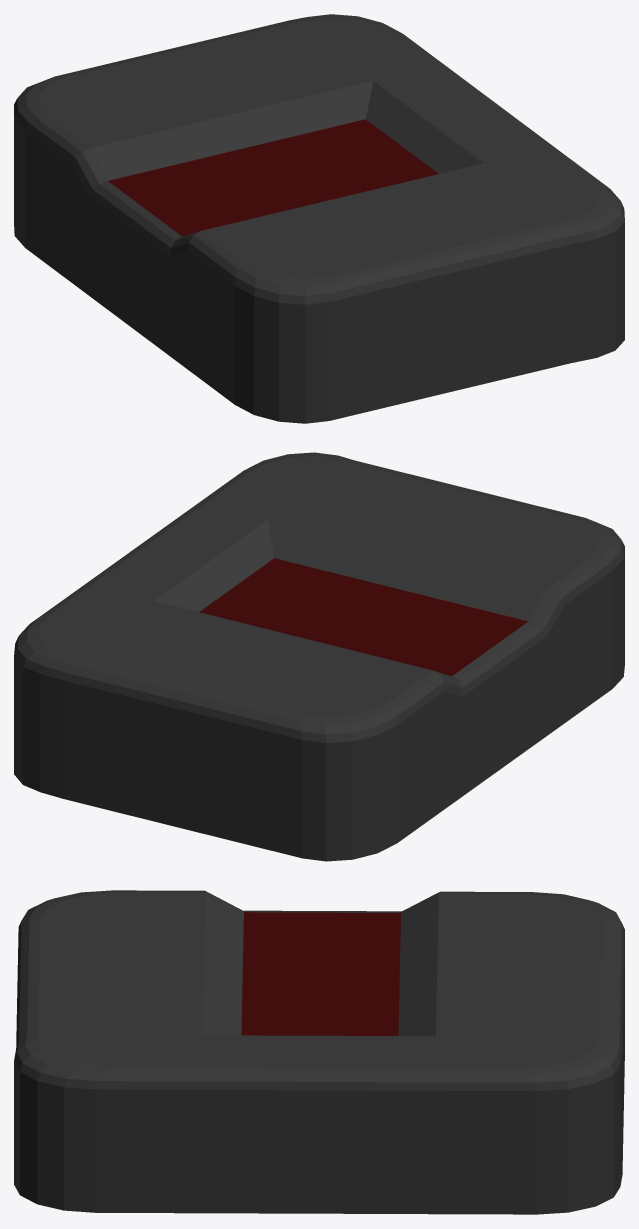
The model's file is lectorHuellas.fbx.
The picture shows the model from 3 angles, top to bottom: view 1: azimuth 30°, elevation 25°; view 2: azimuth 150°, elevation 25°; view 3: azimuth 270°, elevation 25°; orthographic projection. The views are drawn at different scales.
Visible parts, largest first — view 1: Lector_biometrico1; view 2: Lector_biometrico1; view 3: Lector_biometrico1.
Boxes of the visible parts, bbox=[...] form: Lector_biometrico1: bbox=[14, 14, 624, 423]; Lector_biometrico1: bbox=[14, 452, 624, 861]; Lector_biometrico1: bbox=[14, 890, 624, 1214].
Size of the model in its own units: 4.03 by 1.35 by 5.43.
